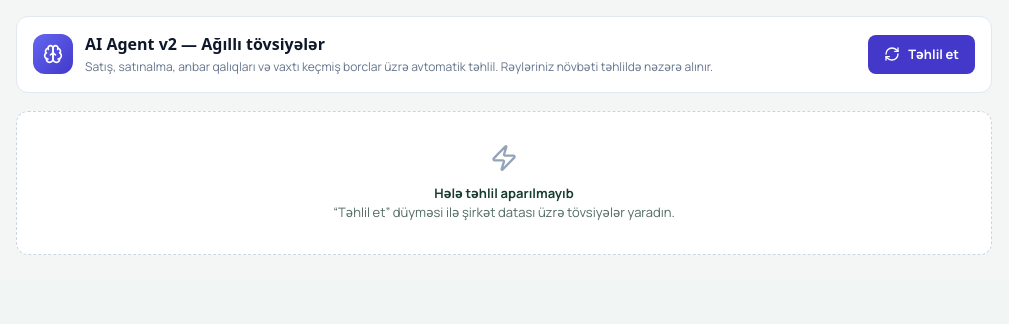
Test: does not confirm feedback that failed to persist and allows retry
Click the button "Təhlil et".
click(922, 54)  # box [868,35,975,74]
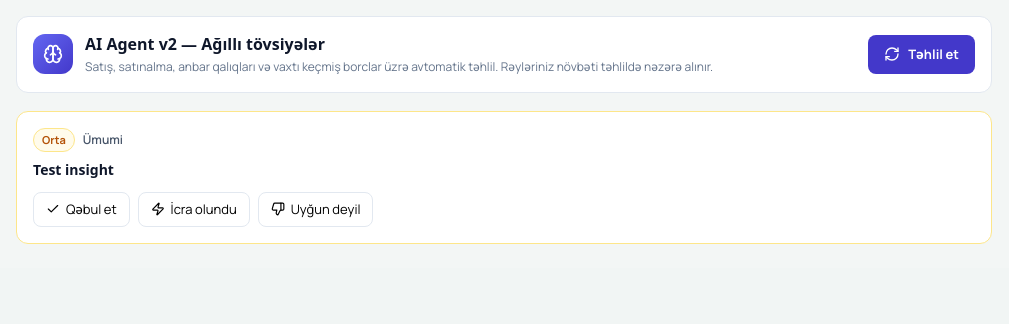
Expected: the text "Test insight" is shown, [33,160,114,178]
Click the button "Qəbul et".
click(81, 209)  # box [33,192,130,227]
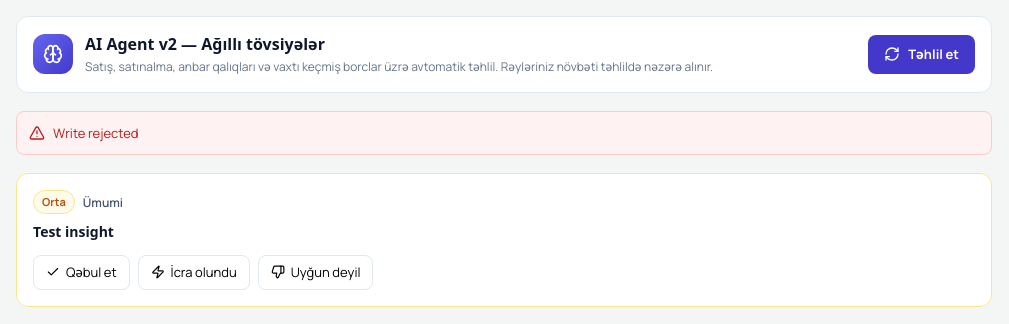
Expected: the button "Qəbul et" is enabled, [33,255,130,290]
Expected: the text "Write rejected" is shown, [16,111,992,155]
